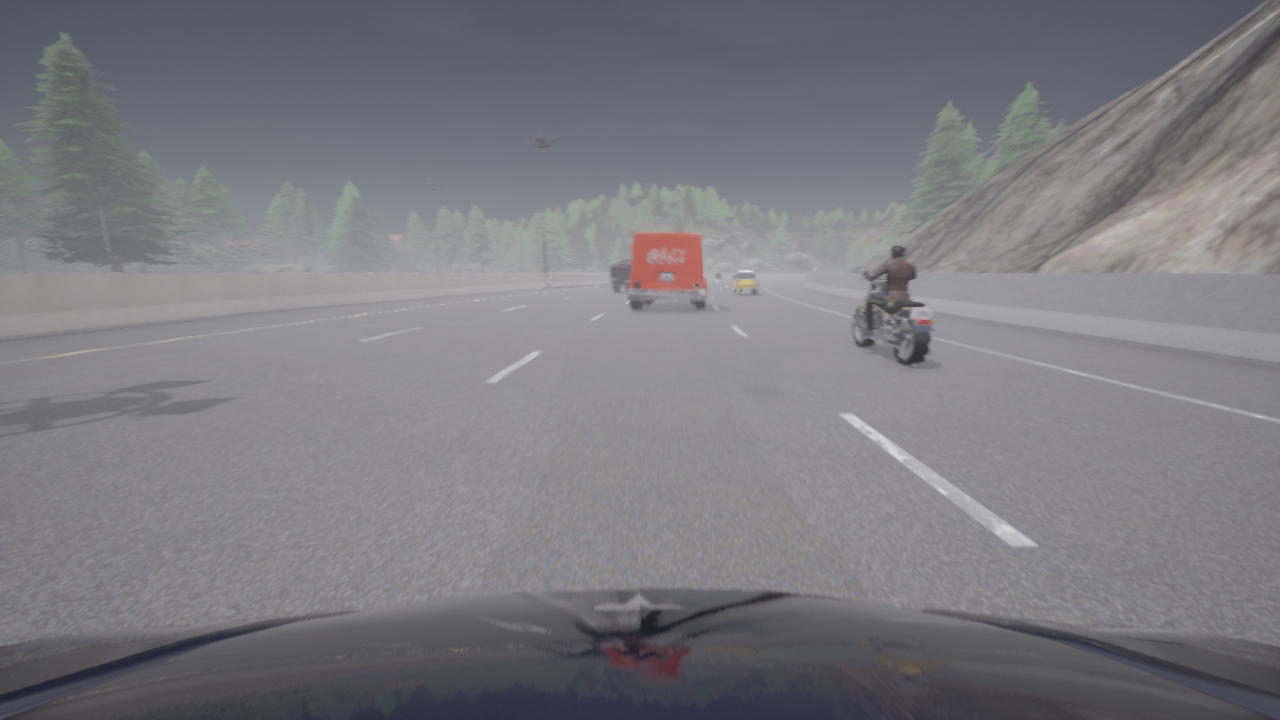cyclist: (0, 588, 1279, 719), (851, 268, 936, 365), (627, 232, 707, 309), (610, 259, 630, 291), (733, 270, 758, 294), (733, 268, 757, 284), (716, 276, 719, 283)
